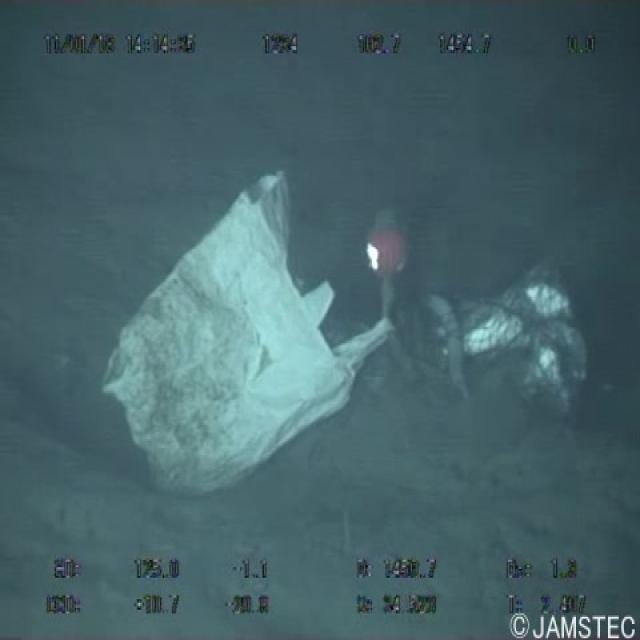plastic: (97, 162, 404, 512)
